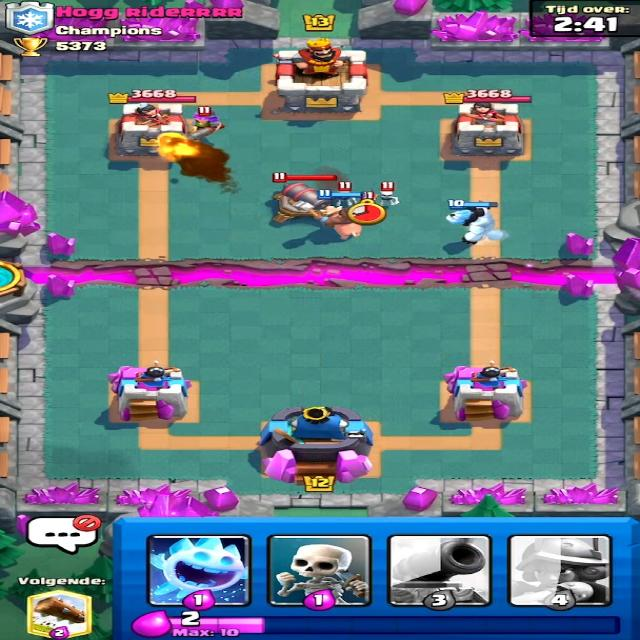Cannon_Card: (376, 538, 486, 610)
Enemy_Cannon_Troop: (272, 180, 332, 221)
Enemy_Musketeer_Troop: (179, 104, 226, 136)
Fireball_Troop: (157, 136, 197, 156)
Hog_Rider_Troop: (322, 197, 360, 239)
Ice_Golem_Troop: (447, 202, 513, 253)
Ice_Spirit_Card: (146, 534, 250, 606), (147, 533, 246, 606)
Musketeer_Card: (504, 532, 616, 607)
Skeleton_Card: (259, 532, 376, 611)
